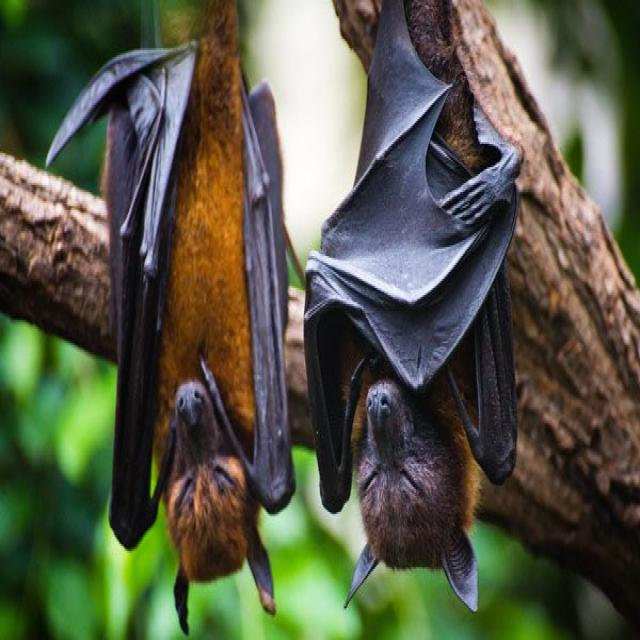Bat: (310, 0, 520, 594), (87, 41, 292, 609)
